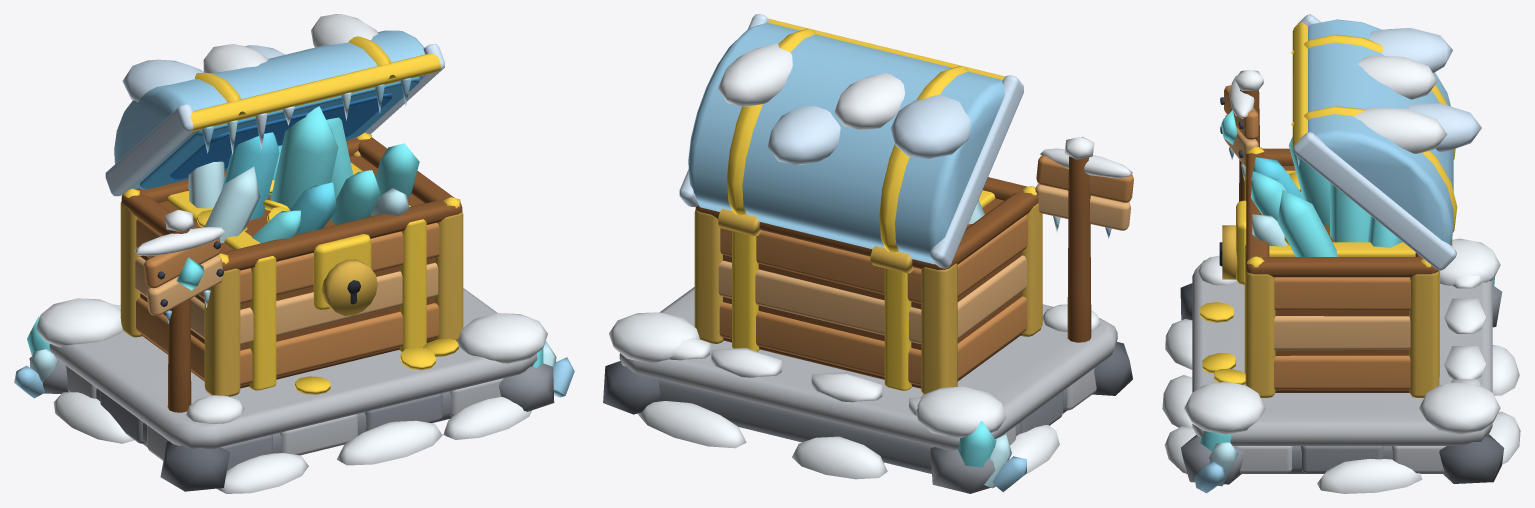
Rendered from DailyChestStand.fbx.
3 renders of one model, left to right at view 1: azimuth 30°, elevation 25°; view 2: azimuth 150°, elevation 25°; view 3: azimuth 270°, elevation 25°, orthographic. The views are drawn at different scales.
Parts seen in each view (by area): view 1: DailyChestStandStone, DailyChestStandWood, DailyChestStandGold, DailyChestStandSnow, DailyChestStandIce, DailyChestStandCrystalsGlow, DailyChestStandCrystals; view 2: DailyChestStandIce, DailyChestStandWood, DailyChestStandSnow, DailyChestStandStone, DailyChestStandGold, DailyChestStandCrystals; view 3: DailyChestStandSnow, DailyChestStandStone, DailyChestStandWood, DailyChestStandIce, DailyChestStandGold, DailyChestStandCrystalsGlow, DailyChestStandCrystals.
Part boxes in pixels (<box>): DailyChestStandStone: <box>29,288,554,491</box>; DailyChestStandWood: <box>121,137,462,412</box>; DailyChestStandGold: <box>120,36,463,396</box>; DailyChestStandSnow: <box>36,14,547,493</box>; DailyChestStandIce: <box>105,30,444,323</box>; DailyChestStandCrystalsGlow: <box>188,106,419,243</box>; DailyChestStandCrystals: <box>14,257,574,398</box>; DailyChestStandIce: <box>679,14,1111,268</box>; DailyChestStandWood: <box>695,155,1133,388</box>; DailyChestStandSnow: <box>609,43,1132,479</box>; DailyChestStandStone: <box>603,287,1132,493</box>; DailyChestStandGold: <box>694,18,1042,394</box>; DailyChestStandCrystals: <box>957,421,1026,492</box>; DailyChestStandSnow: <box>1162,28,1520,493</box>; DailyChestStandStone: <box>1180,260,1504,484</box>; DailyChestStandWood: <box>1220,85,1438,392</box>; DailyChestStandIce: <box>1229,14,1456,270</box>; DailyChestStandGold: <box>1200,22,1457,397</box>; DailyChestStandCrystalsGlow: <box>1251,137,1402,256</box>; DailyChestStandCrystals: <box>1194,110,1494,493</box>.
Size of the model in its own units: 88.4 by 66.16 by 65.6.
